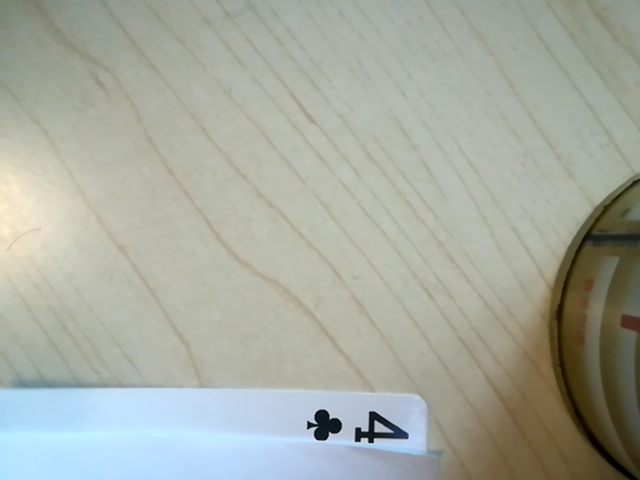mh 4: (291, 396, 428, 460)
